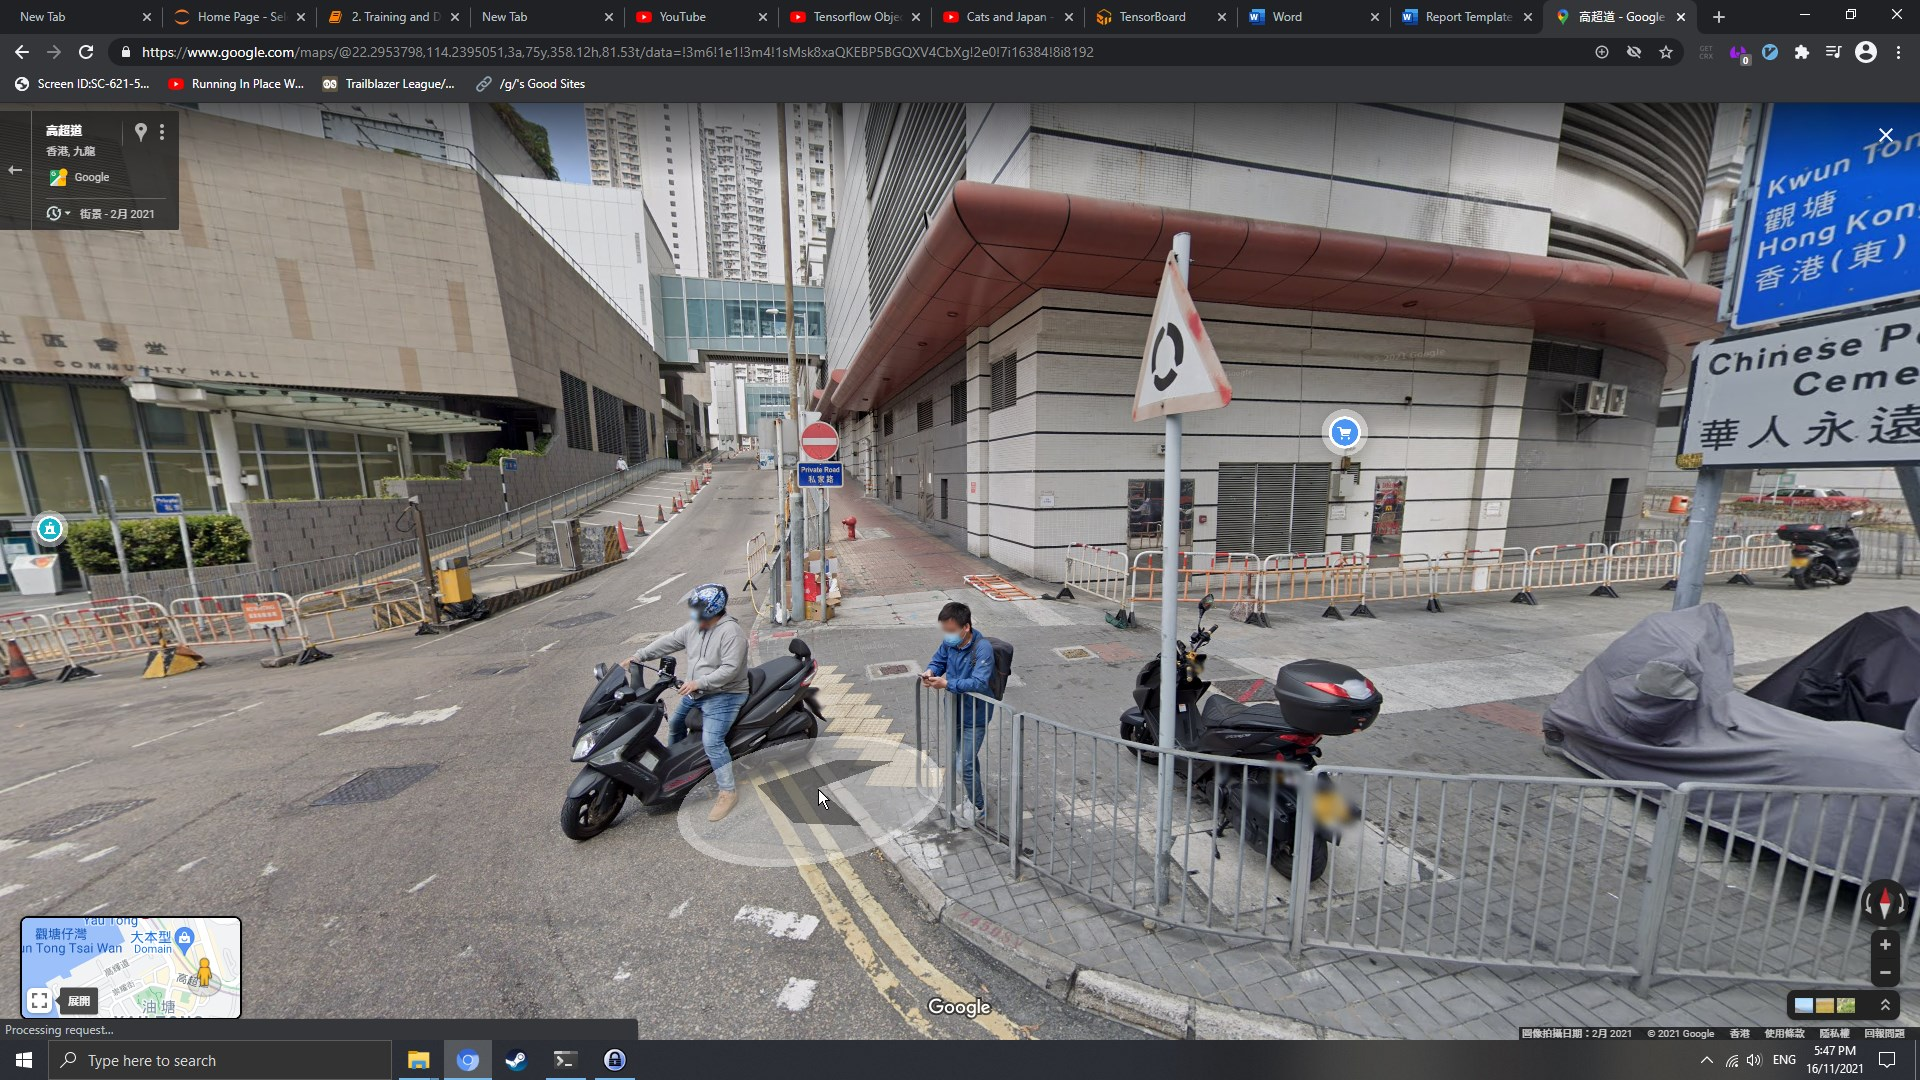NoEntry: (799, 421, 840, 460)
